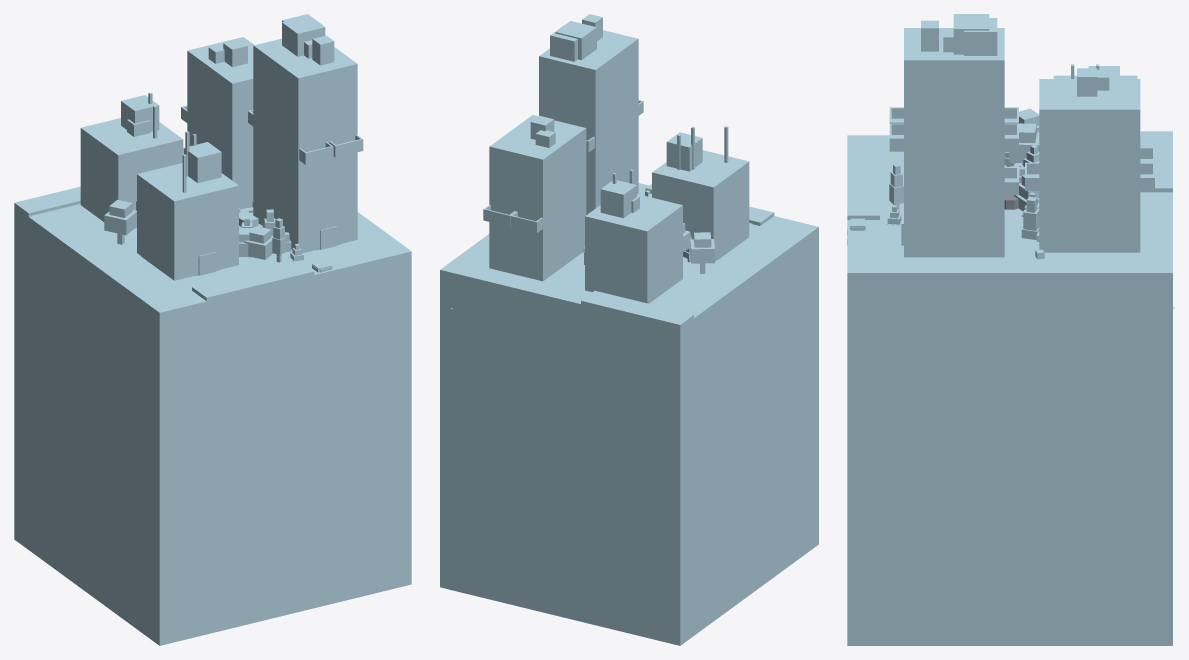
File: block_22_undergroundtanks_100.glb
3 renders of one model, left to right at view 1: azimuth 30°, elevation 25°; view 2: azimuth 150°, elevation 25°; view 3: azimuth 270°, elevation 25°, orthographic. The views are drawn at different scales.
Visible parts, largest first — view 1: Patch_UpperRight_b21_UT, ResidBldgs_b22_UT, Green_UpperRight_b22_UT, Roads_UpperRight_b21_UT, URTree_22_2_UT, URTree_22_7_UT; view 2: Patch_UpperRight_b21_UT, ResidBldgs_b22_UT, Green_UpperRight_b22_UT, Roads_UpperRight_b21_UT, URTree_22_2_UT; view 3: Patch_UpperRight_b21_UT, ResidBldgs_b22_UT, Roads_UpperRight_b21_UT, URTree_22_4_UT, Green_UpperRight_b22_UT, URTree_22_17_UT, URTree_22_11_UT.
Boxes of the visible parts, x1,y1,x2,y2 form: Patch_UpperRight_b21_UT: (14,206,411,645); ResidBldgs_b22_UT: (80,14,363,280); Green_UpperRight_b22_UT: (31,204,285,285); Roads_UpperRight_b21_UT: (14,186,411,326); URTree_22_2_UT: (104,199,136,244); URTree_22_7_UT: (244,226,273,259); Patch_UpperRight_b21_UT: (440,183,818,645); ResidBldgs_b22_UT: (483,14,749,303); Green_UpperRight_b22_UT: (649,223,756,314); Roads_UpperRight_b21_UT: (440,206,818,332); URTree_22_2_UT: (690,232,714,273); Patch_UpperRight_b21_UT: (847,135,1172,645); ResidBldgs_b22_UT: (889,14,1154,257); Roads_UpperRight_b21_UT: (847,131,1172,319); URTree_22_4_UT: (1009,123,1039,164); Green_UpperRight_b22_UT: (880,136,1140,213); URTree_22_17_UT: (1021,196,1039,239); URTree_22_11_UT: (889,163,903,209).
Size of the model in its own units: 9.5 by 19.17 by 9.55.
